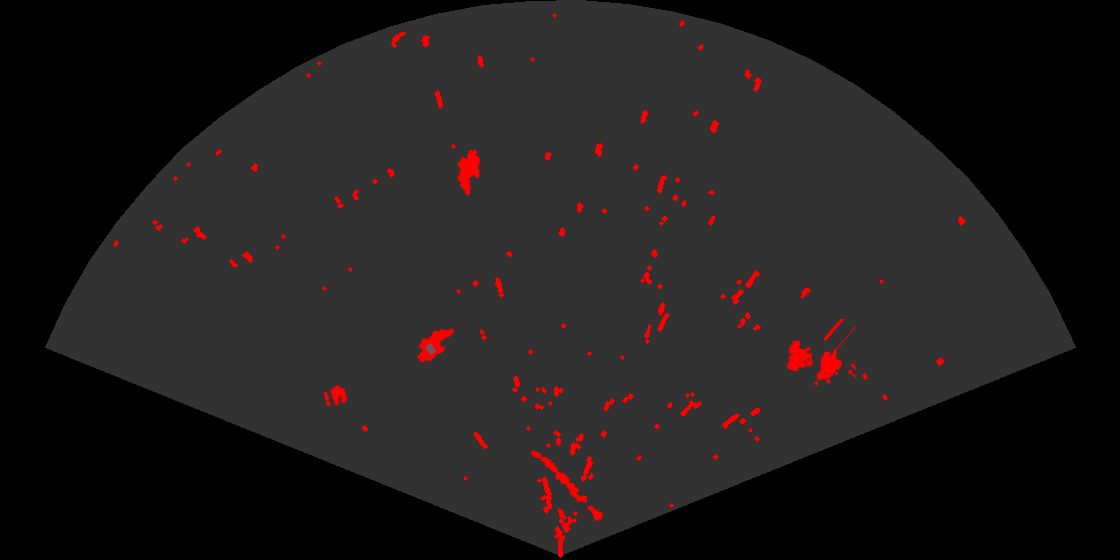AUV: (416, 327, 455, 364), (456, 147, 482, 198)
ball: (322, 384, 349, 408)
cage: (785, 319, 856, 387)
chain: (529, 449, 604, 523)
